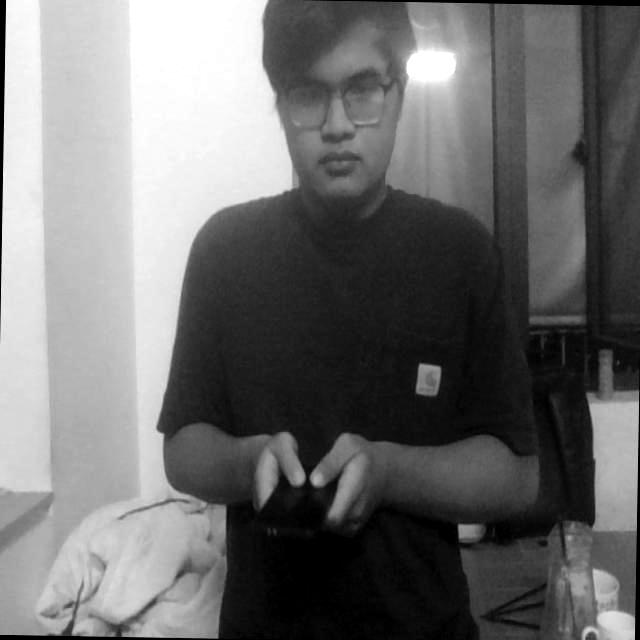phone: (250, 444, 342, 556)
